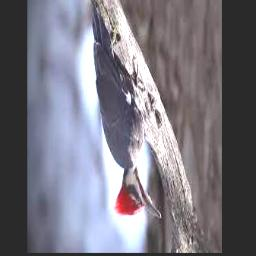Woodpecker: (91, 2, 161, 219)
